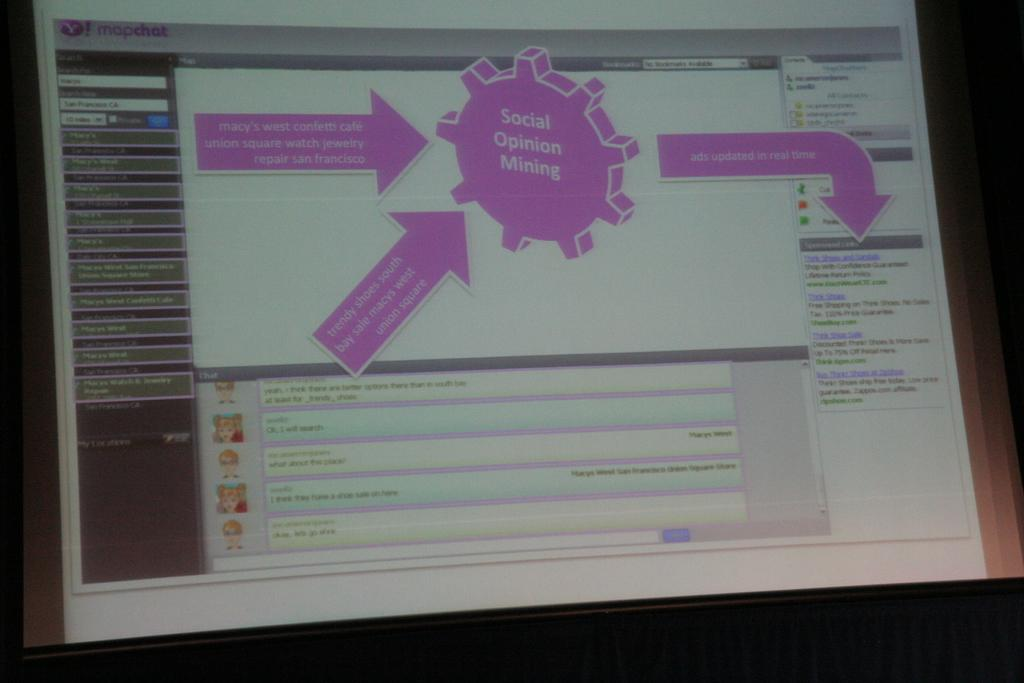Computer-monitor: (0, 22, 1024, 670)
